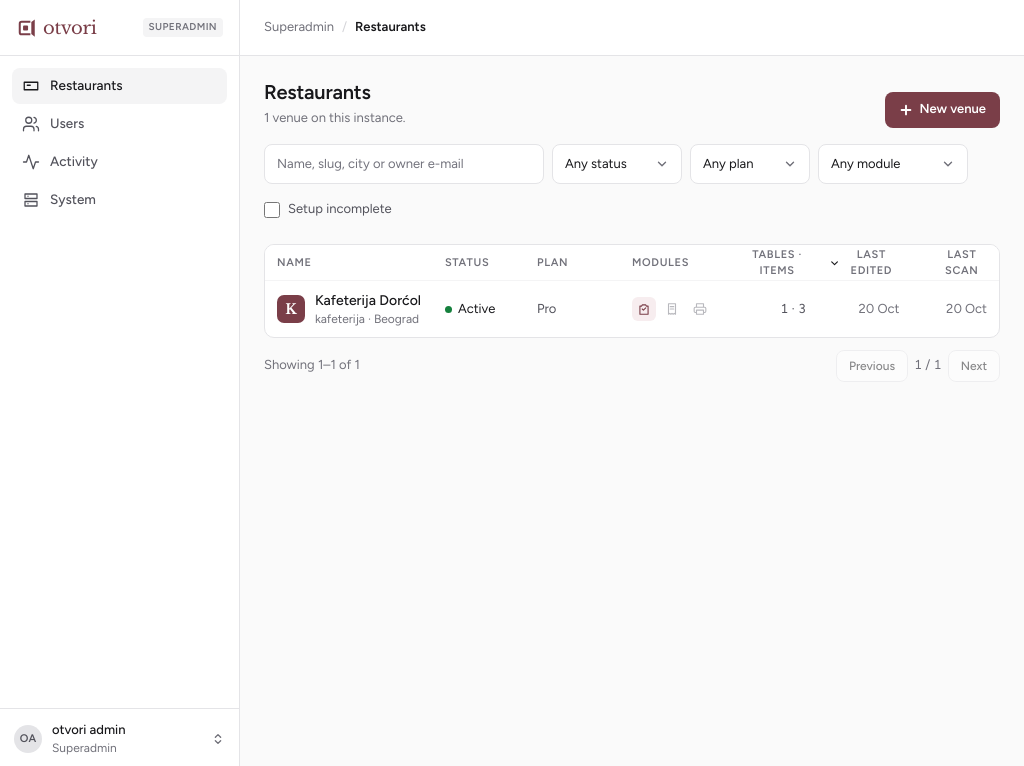
Test case: superadmin area (Phase 13a) › shows the restaurant detail with tabs and enters the venue through "Open as owner"
The image size is (1024, 766).
Click the link with aria-label "Open Kafeterija Dorćol".
click(632, 309)  # box [265,281,999,337]
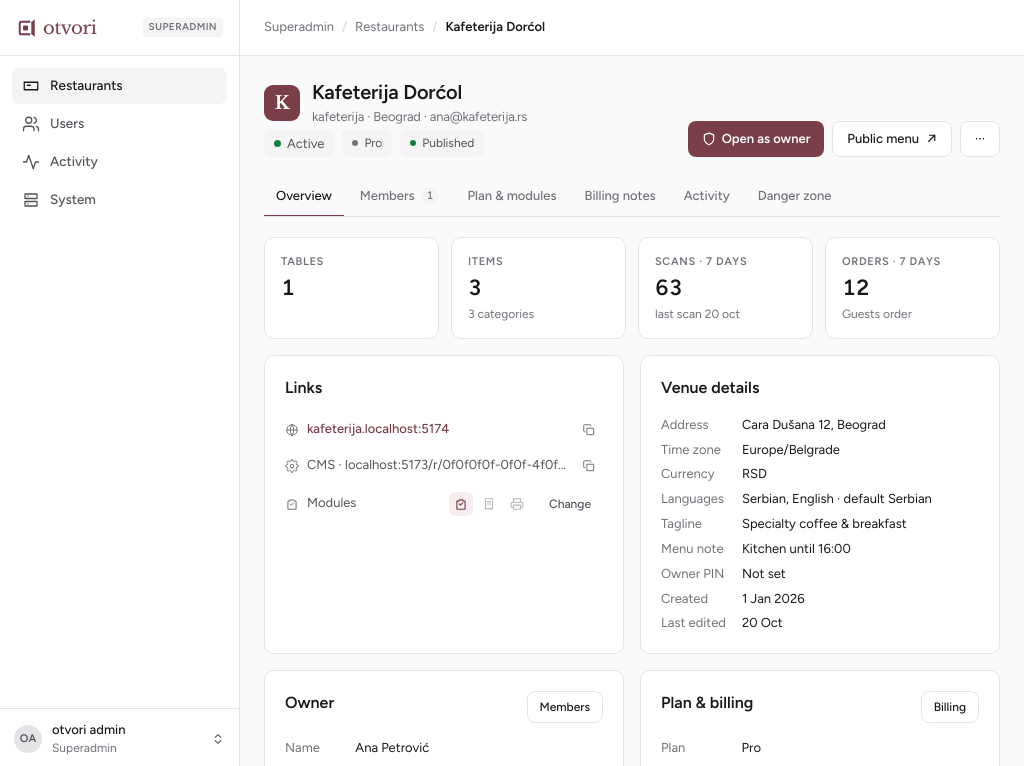
Now the heading "K Kafeterija Dorćol kafeterija · Beograd · ana@kafeterija.rs" is shown, box [264,80,527,125]
Now the tabs read "Overview", "Members1", "Plan & modules", "Billing notes", "Activity", "Danger zone", in this order, box [264,177,344,217]; [348,177,451,217]; [455,177,568,217]; [572,177,668,217]; [672,177,742,217]; [746,177,844,217]
Now the panel named "Overview" shows "Scans · 7 days", box [655,255,747,268]
Click the button "Open as owner".
click(756, 139)  # box [688,121,824,157]
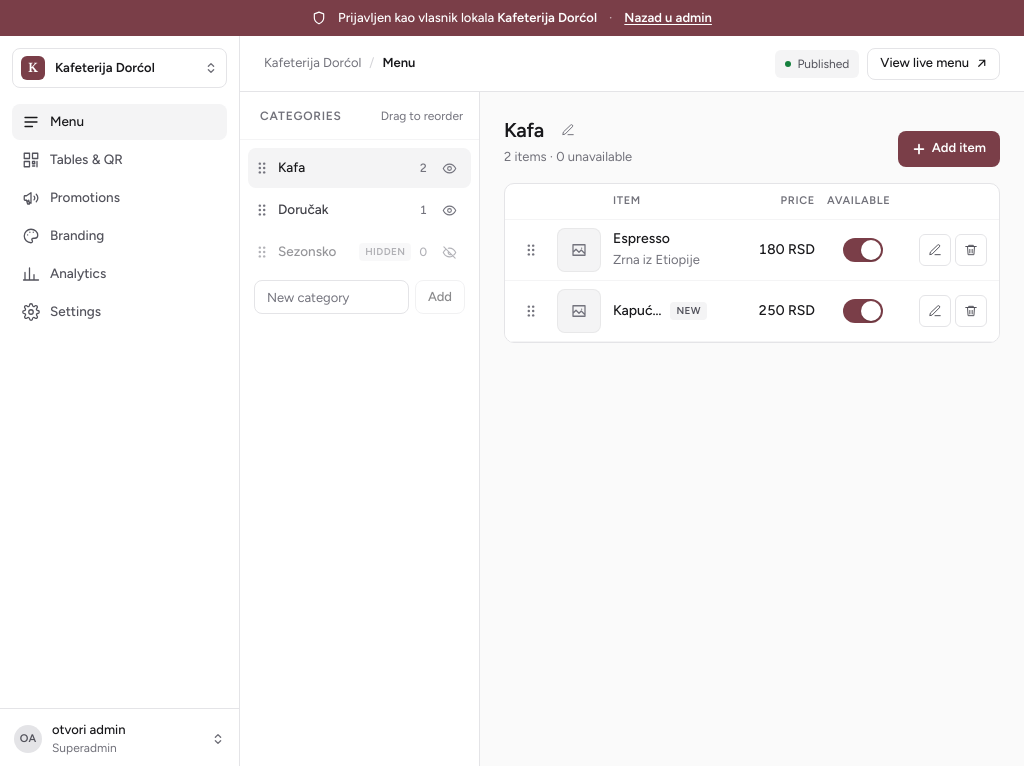
Now the heading "Kafa" is shown, box [504,118,544,142]
Now the message named "Open as owner" shows "Prijavljen kao vlasnik lokala Kafeterija Dorćol", box [0,0,1023,36]
Click the button "Nazad u admin".
click(668, 18)  # box [624,9,712,27]
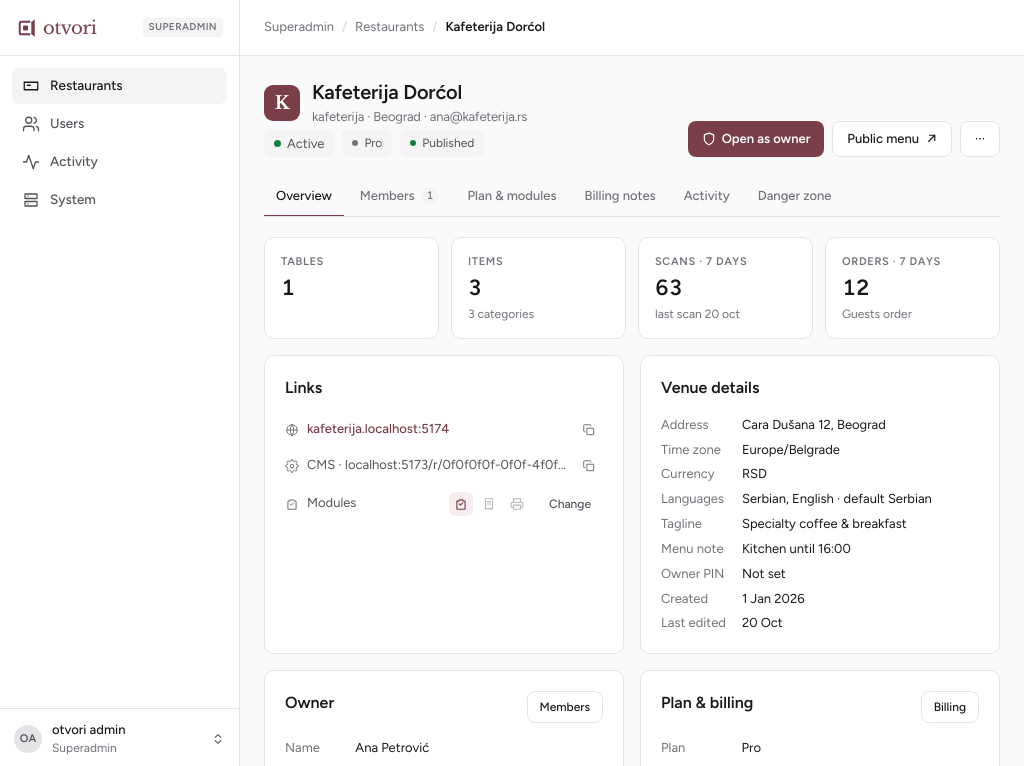
Now the heading "K Kafeterija Dorćol kafeterija · Beograd · ana@kafeterija.rs" is shown, box [264,80,527,125]
Now the text "Prijavljen kao vlasnik" is gone
